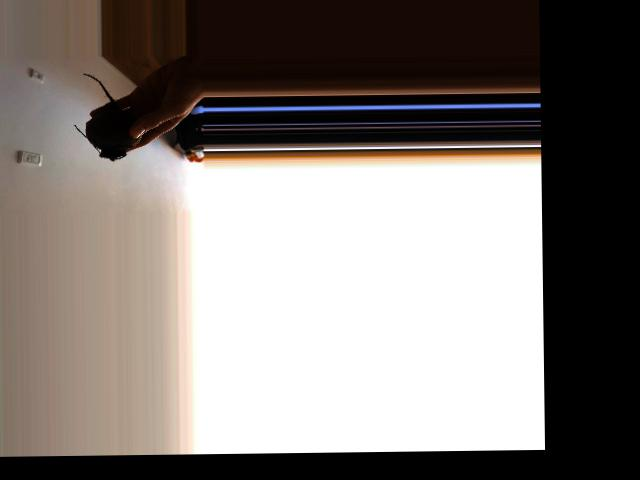beet: (72, 72, 142, 161)
